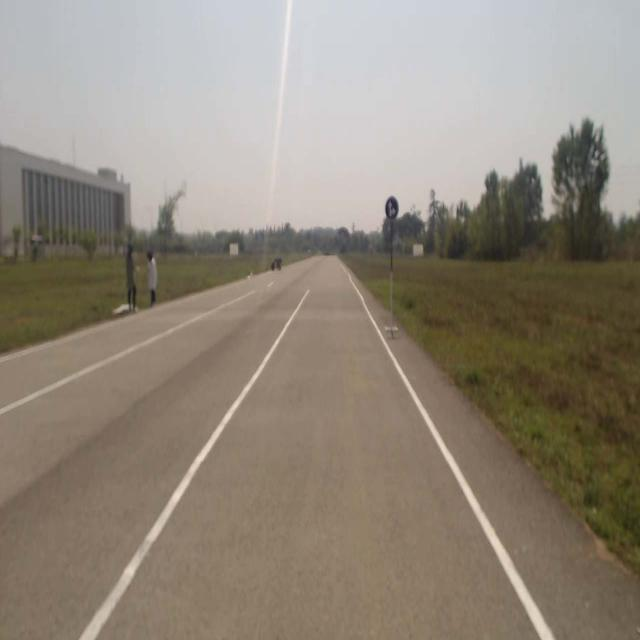ilerisag: (386, 198, 398, 220)
